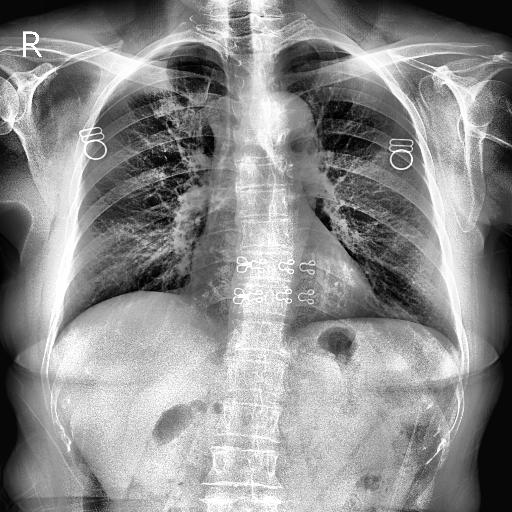0- Aortic enlargement: (258, 88, 323, 176), (258, 90, 318, 164), (252, 91, 322, 151)
11- Pleural thickening: (194, 32, 226, 82)
